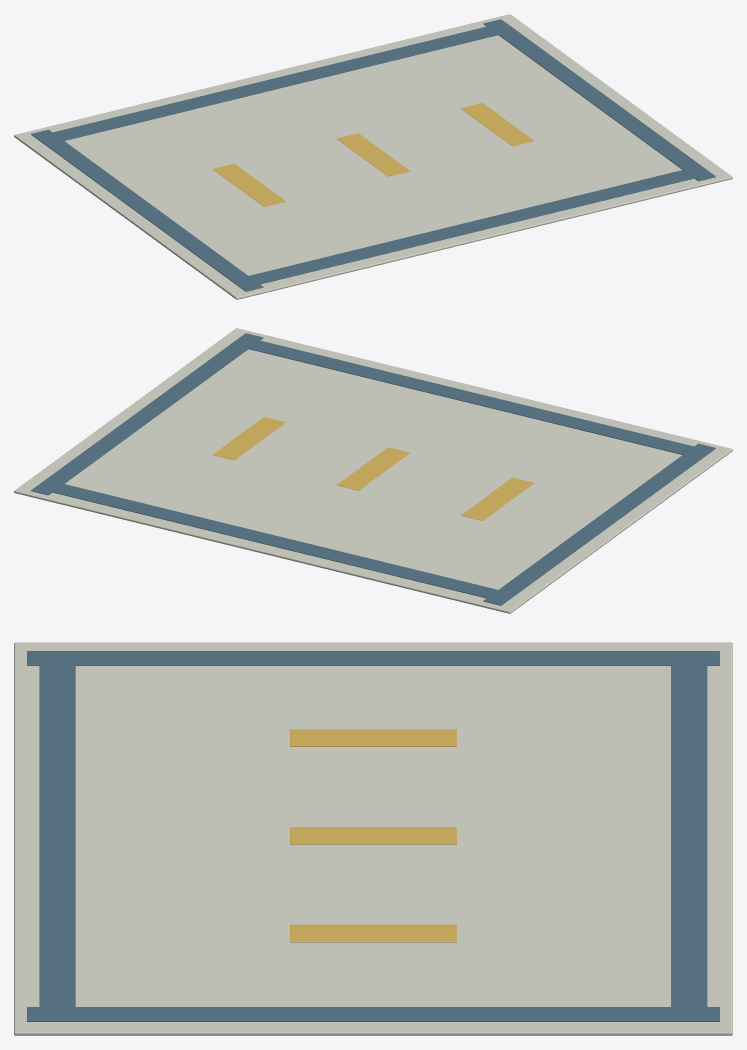
File: rug.glb
3 views of the same model, one above another, from view 1: azimuth 30°, elevation 25°; view 2: azimuth 150°, elevation 25°; view 3: azimuth 270°, elevation 25° (orthographic). The views are drawn at different scales.
Visible parts, largest first — view 1: rug_Mesh; view 2: rug_Mesh; view 3: rug_Mesh.
Part boxes in pixels (x1,y1,x2,y2): rug_Mesh: [14, 14, 732, 299]; rug_Mesh: [14, 328, 732, 613]; rug_Mesh: [14, 642, 732, 1035].
Bounding box in the file's own units: 3.6 × 0.023 × 2.8.
